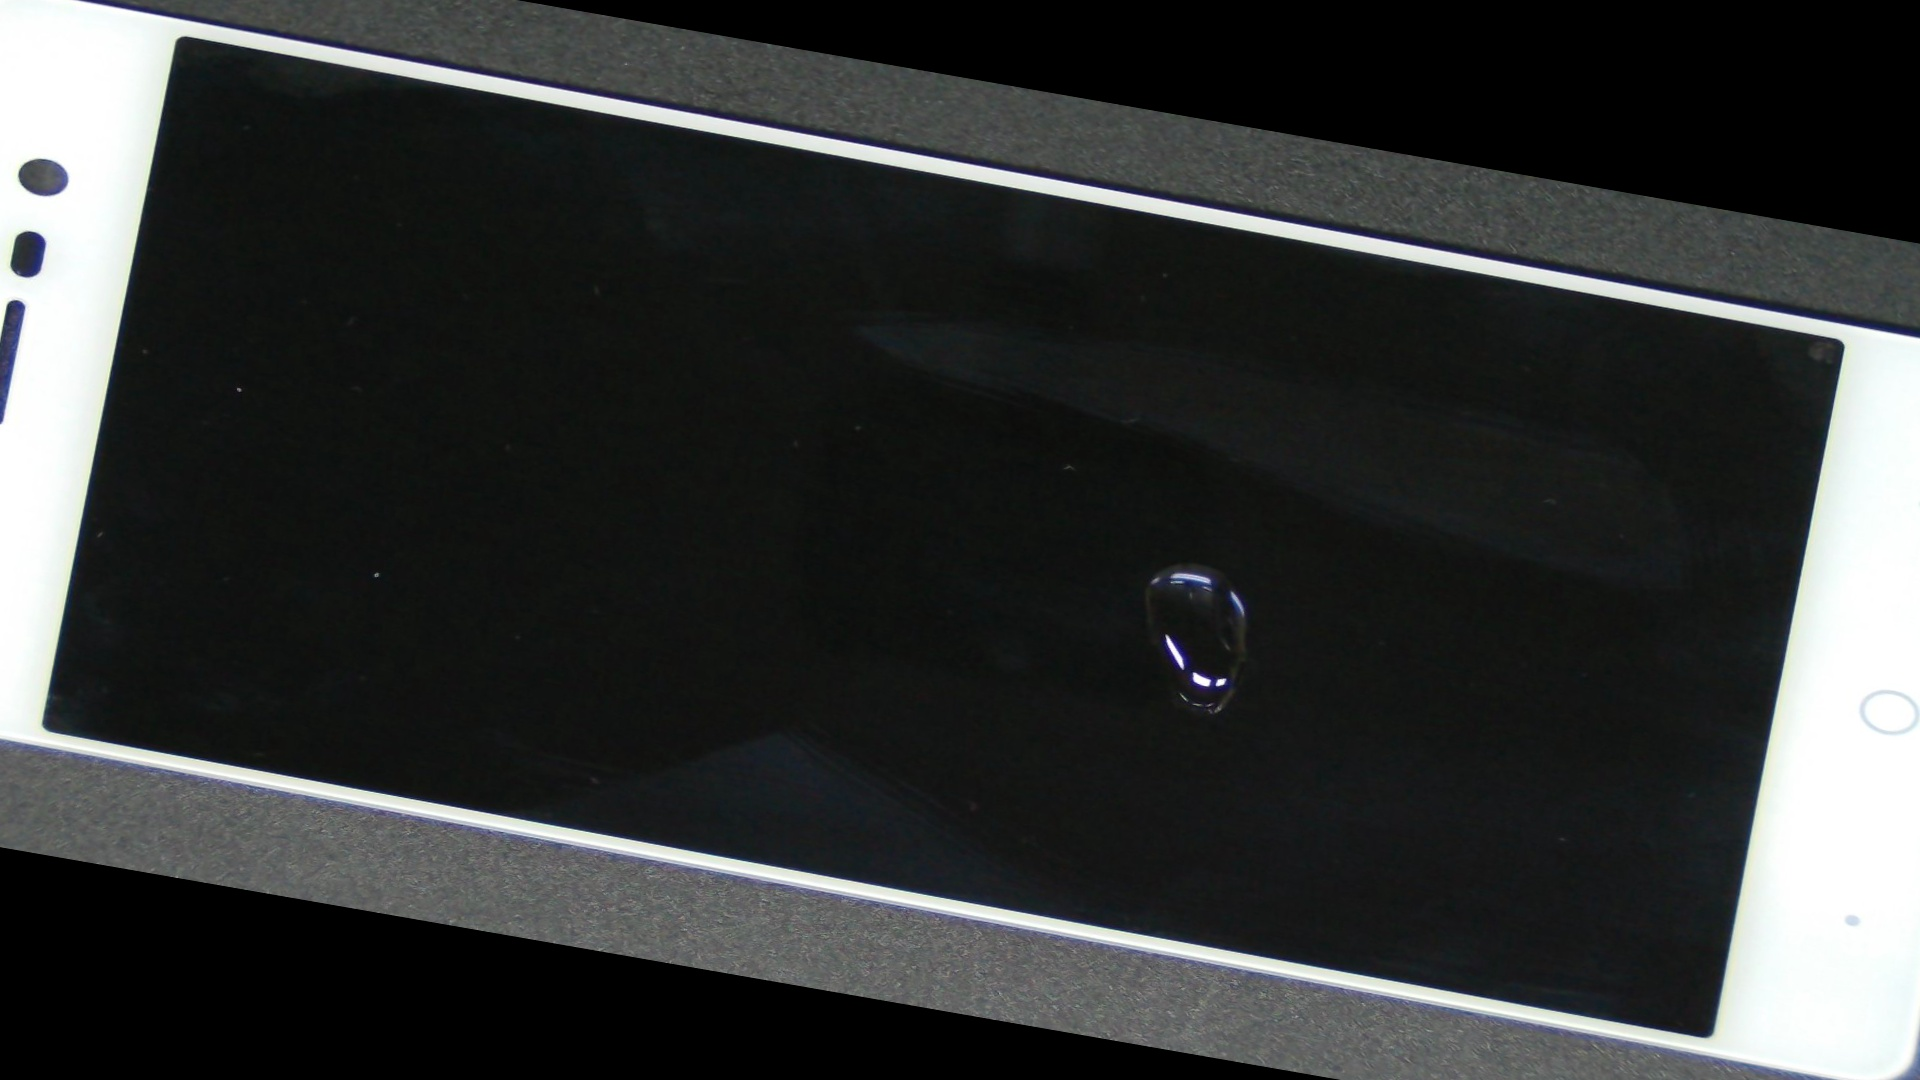oil: (484, 231, 1905, 898)
